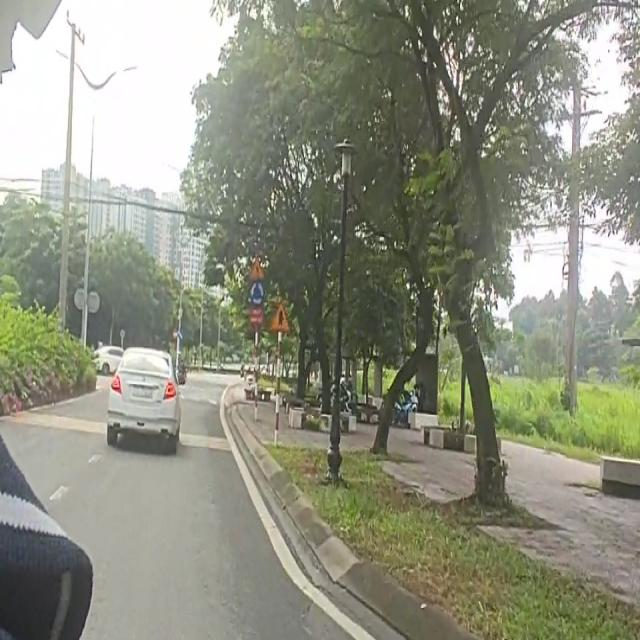Bien bao duong nguoi di bo cat ngang: (250, 254, 269, 284)
Bien bao giao nhau voi duong khong uu tien: (271, 302, 293, 338)
